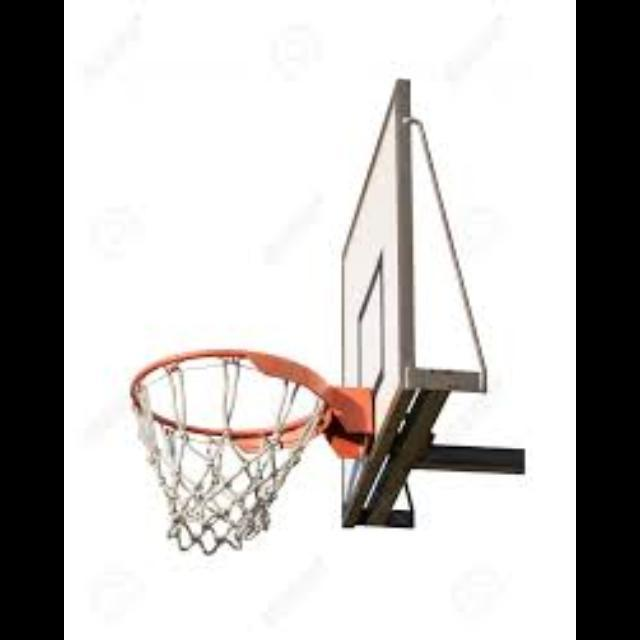rim: (131, 347, 333, 549)
